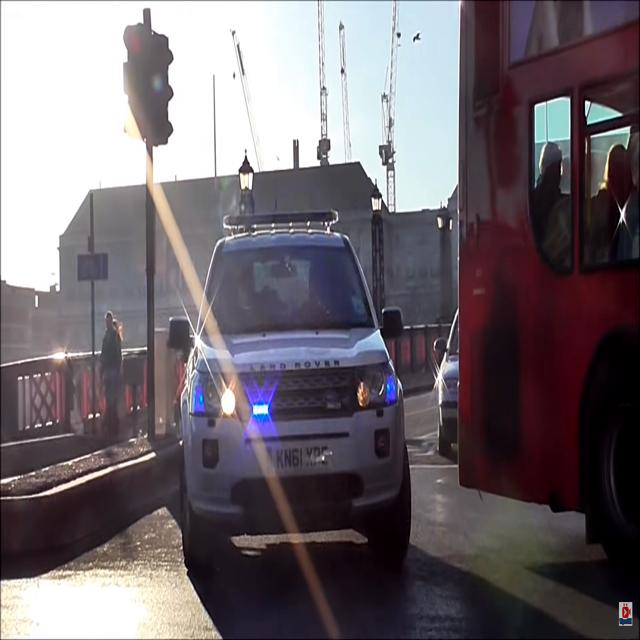emergency-vehicles: (139, 198, 424, 587)
